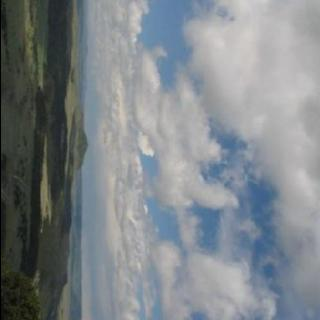Cirrus: (86, 0, 320, 320)
